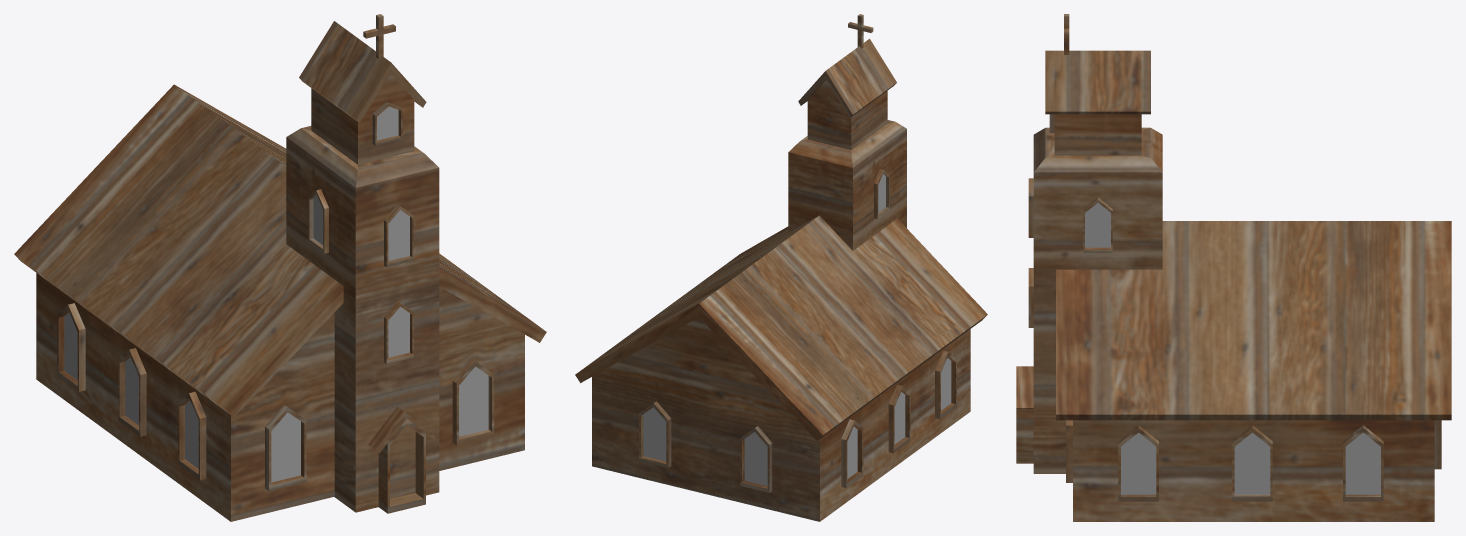
The model's file is Church.fbx.
3 renders of one model, left to right at view 1: azimuth 30°, elevation 25°; view 2: azimuth 150°, elevation 25°; view 3: azimuth 270°, elevation 25°, orthographic. The views are drawn at different scales.
Parts seen in each view (by area): view 1: Church; view 2: Church; view 3: Church.
Boxes of the visible parts, x1=… form: Church: x1=14, y1=14, x2=546, y2=521; Church: x1=575, y1=14, x2=987, y2=521; Church: x1=1016, y1=14, x2=1451, y2=521.
Bounding box in the file's own units: 65.51 × 92.74 × 83.12.
